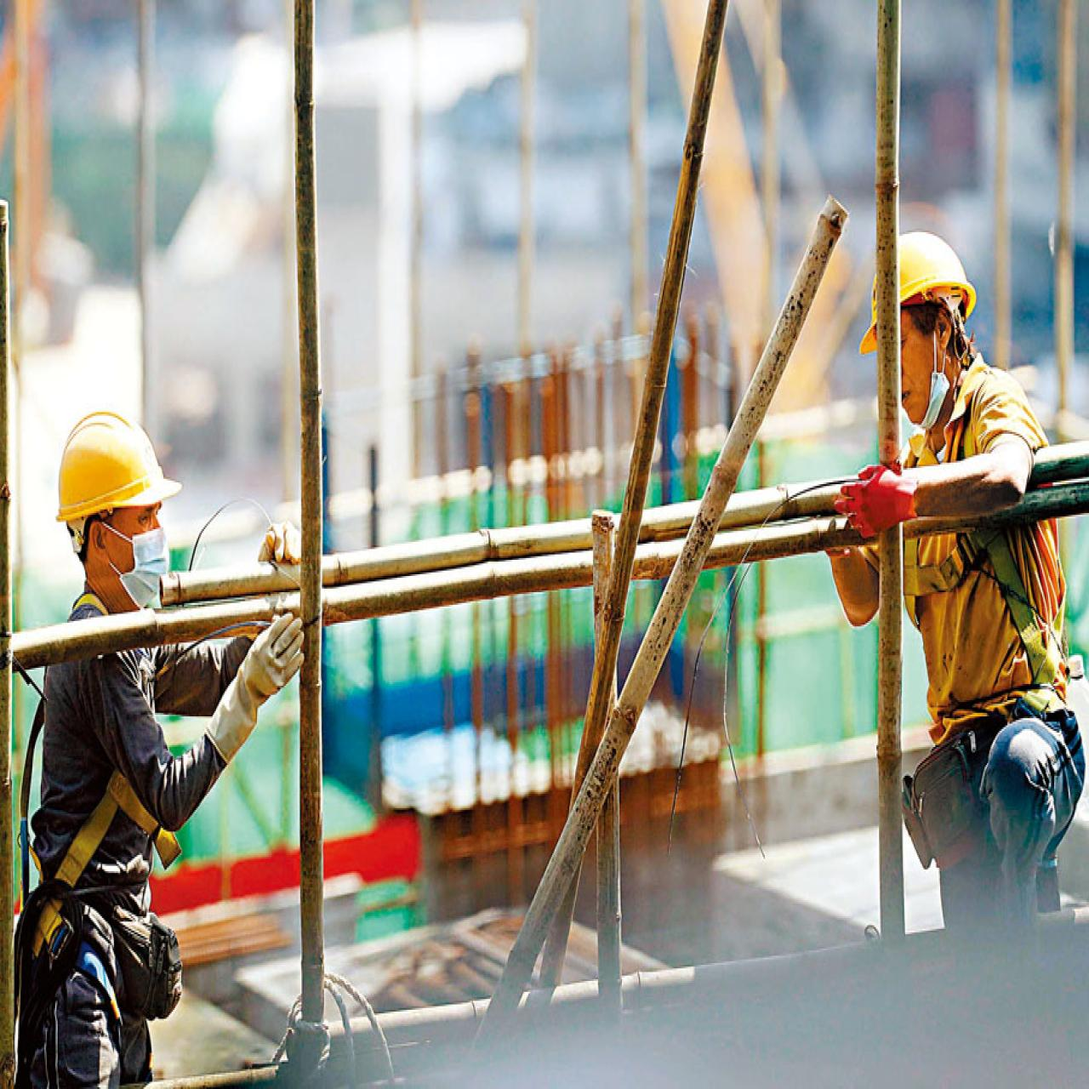NO_Safety_Vest: (890, 384, 1068, 735), (32, 593, 208, 900)
Person: (0, 385, 329, 1086), (806, 189, 1089, 981)
